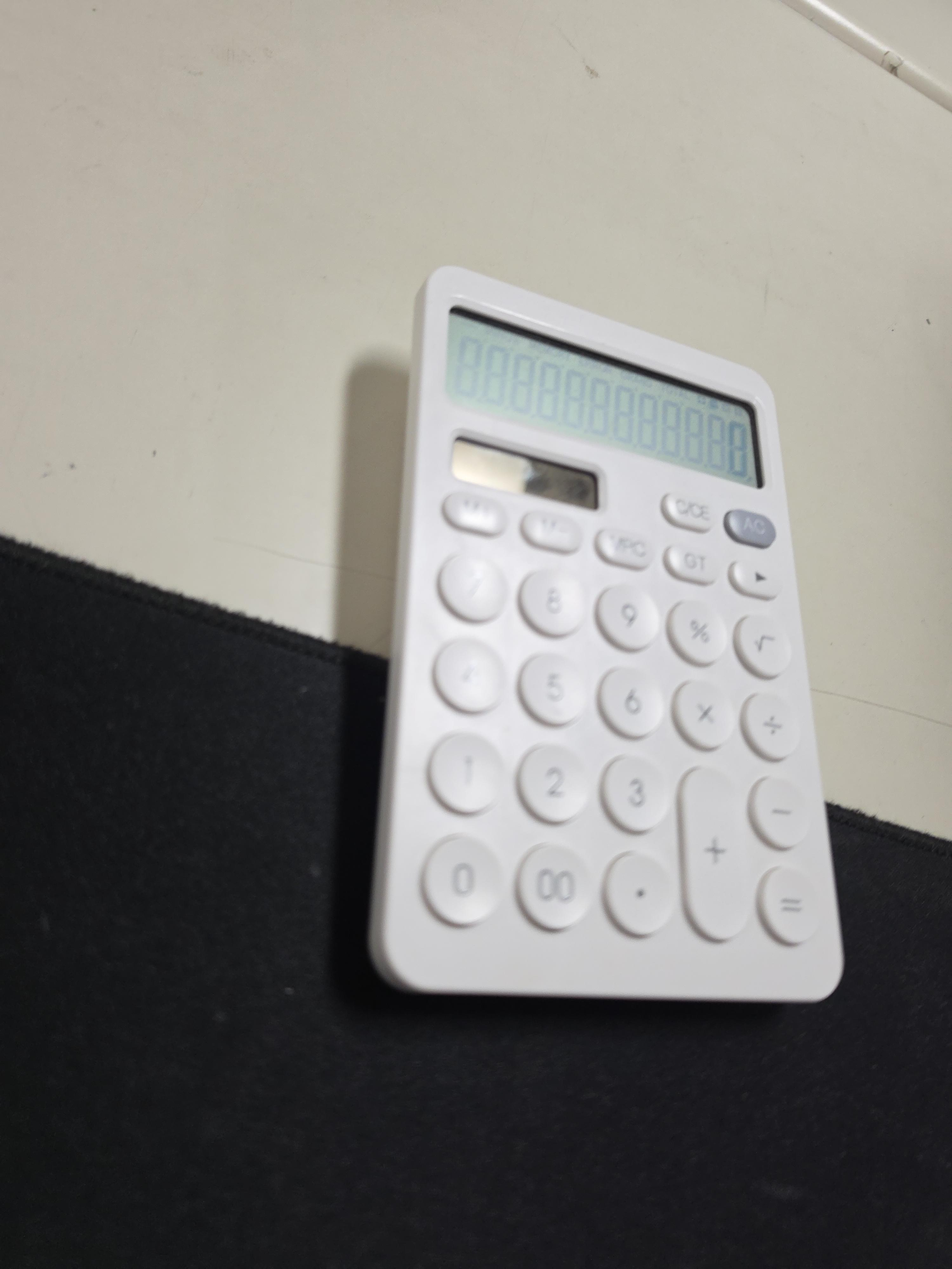calculator: (371, 265, 845, 1006)
